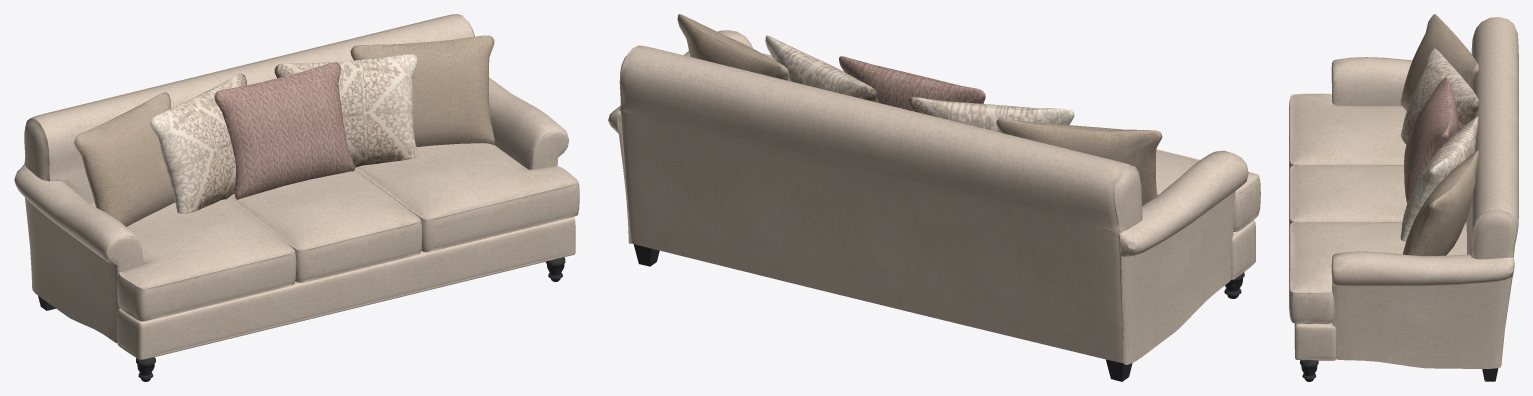
Rendered from otros3.gltf.
3 renders of one model, left to right at view 1: azimuth 30°, elevation 25°; view 2: azimuth 150°, elevation 25°; view 3: azimuth 270°, elevation 25°, orthographic. The views are drawn at different scales.
Parts seen in each view (by area): view 1: Object02_a6d1b5e7a62c440684e4afcfac562aef, Object01_8868e824ff714bdc93e50d9c3ea9706a, Object05_101b838989964d3b8ad55593bbfde3fe, Box17_da781a8c6b2a487f940eb78507af43cd, Object04_0dd5854a508841bd85165d64b120a010, Box03_4689841911cc4c15b70a8596506708df, Box04_2a796d9e3d9440df9311472e7da88282, Box22_55857f322dd64a328e8d90c072381a00, Box13_0d9a81e36f8d4f4eb955f48235a1b943, Box21_e8cca78b040642cebe2fb60fa98deeb9, Box20_19a38fa750e447a79918a3bd3d319d3d, Box18_0809b6b295cc4f5897bc4b1d13335c95; view 2: Box04_2a796d9e3d9440df9311472e7da88282, Box03_4689841911cc4c15b70a8596506708df, Box13_0d9a81e36f8d4f4eb955f48235a1b943, Box17_da781a8c6b2a487f940eb78507af43cd, Box20_19a38fa750e447a79918a3bd3d319d3d, Box22_55857f322dd64a328e8d90c072381a00, Box21_e8cca78b040642cebe2fb60fa98deeb9, Object01_8868e824ff714bdc93e50d9c3ea9706a, Object02_a6d1b5e7a62c440684e4afcfac562aef, Box18_0809b6b295cc4f5897bc4b1d13335c95; view 3: Box18_0809b6b295cc4f5897bc4b1d13335c95, Box04_2a796d9e3d9440df9311472e7da88282, Object01_8868e824ff714bdc93e50d9c3ea9706a, Object05_101b838989964d3b8ad55593bbfde3fe, Object04_0dd5854a508841bd85165d64b120a010, Box22_55857f322dd64a328e8d90c072381a00, Box03_4689841911cc4c15b70a8596506708df, Box17_da781a8c6b2a487f940eb78507af43cd, Box21_e8cca78b040642cebe2fb60fa98deeb9, Box20_19a38fa750e447a79918a3bd3d319d3d, Box13_0d9a81e36f8d4f4eb955f48235a1b943, Object02_a6d1b5e7a62c440684e4afcfac562aef (+1 smaller).
Part boxes in pixels (bbox=[...]): Object02_a6d1b5e7a62c440684e4afcfac562aef: bbox=[117, 217, 575, 359]; Object01_8868e824ff714bdc93e50d9c3ea9706a: bbox=[91, 199, 296, 321]; Object05_101b838989964d3b8ad55593bbfde3fe: bbox=[355, 143, 579, 252]; Box17_da781a8c6b2a487f940eb78507af43cd: bbox=[214, 62, 355, 199]; Object04_0dd5854a508841bd85165d64b120a010: bbox=[227, 170, 422, 282]; Box03_4689841911cc4c15b70a8596506708df: bbox=[14, 165, 143, 343]; Box04_2a796d9e3d9440df9311472e7da88282: bbox=[24, 14, 474, 204]; Box22_55857f322dd64a328e8d90c072381a00: bbox=[350, 35, 494, 146]; Box13_0d9a81e36f8d4f4eb955f48235a1b943: bbox=[74, 92, 175, 226]; Box21_e8cca78b040642cebe2fb60fa98deeb9: bbox=[274, 54, 418, 167]; Box20_19a38fa750e447a79918a3bd3d319d3d: bbox=[150, 73, 246, 213]; Box18_0809b6b295cc4f5897bc4b1d13335c95: bbox=[489, 77, 568, 169]; Box04_2a796d9e3d9440df9311472e7da88282: bbox=[619, 45, 1142, 363]; Box03_4689841911cc4c15b70a8596506708df: bbox=[1118, 150, 1248, 364]; Box13_0d9a81e36f8d4f4eb955f48235a1b943: bbox=[996, 118, 1162, 205]; Box17_da781a8c6b2a487f940eb78507af43cd: bbox=[839, 56, 985, 111]; Box20_19a38fa750e447a79918a3bd3d319d3d: bbox=[908, 97, 1074, 132]; Box22_55857f322dd64a328e8d90c072381a00: bbox=[677, 14, 790, 81]; Box21_e8cca78b040642cebe2fb60fa98deeb9: bbox=[765, 35, 878, 102]; Object01_8868e824ff714bdc93e50d9c3ea9706a: bbox=[1156, 149, 1260, 231]; Object02_a6d1b5e7a62c440684e4afcfac562aef: bbox=[1231, 220, 1255, 279]; Box18_0809b6b295cc4f5897bc4b1d13335c95: bbox=[608, 30, 752, 243]; Box18_0809b6b295cc4f5897bc4b1d13335c95: bbox=[1331, 251, 1514, 368]; Box04_2a796d9e3d9440df9311472e7da88282: bbox=[1466, 17, 1518, 347]; Object01_8868e824ff714bdc93e50d9c3ea9706a: bbox=[1289, 93, 1406, 175]; Object05_101b838989964d3b8ad55593bbfde3fe: bbox=[1289, 222, 1466, 323]; Object04_0dd5854a508841bd85165d64b120a010: bbox=[1289, 165, 1406, 232]; Box22_55857f322dd64a328e8d90c072381a00: bbox=[1402, 150, 1479, 255]; Box03_4689841911cc4c15b70a8596506708df: bbox=[1331, 57, 1412, 105]; Box17_da781a8c6b2a487f940eb78507af43cd: bbox=[1404, 76, 1458, 203]; Box21_e8cca78b040642cebe2fb60fa98deeb9: bbox=[1400, 116, 1479, 241]; Box20_19a38fa750e447a79918a3bd3d319d3d: bbox=[1400, 48, 1479, 144]; Box13_0d9a81e36f8d4f4eb955f48235a1b943: bbox=[1400, 14, 1479, 110]; Object02_a6d1b5e7a62c440684e4afcfac562aef: bbox=[1294, 323, 1335, 360].
Bounding box in the file's own units: 2.3 × 0.9405 × 1.06.
Materials: 5 (4 with a texture image).
